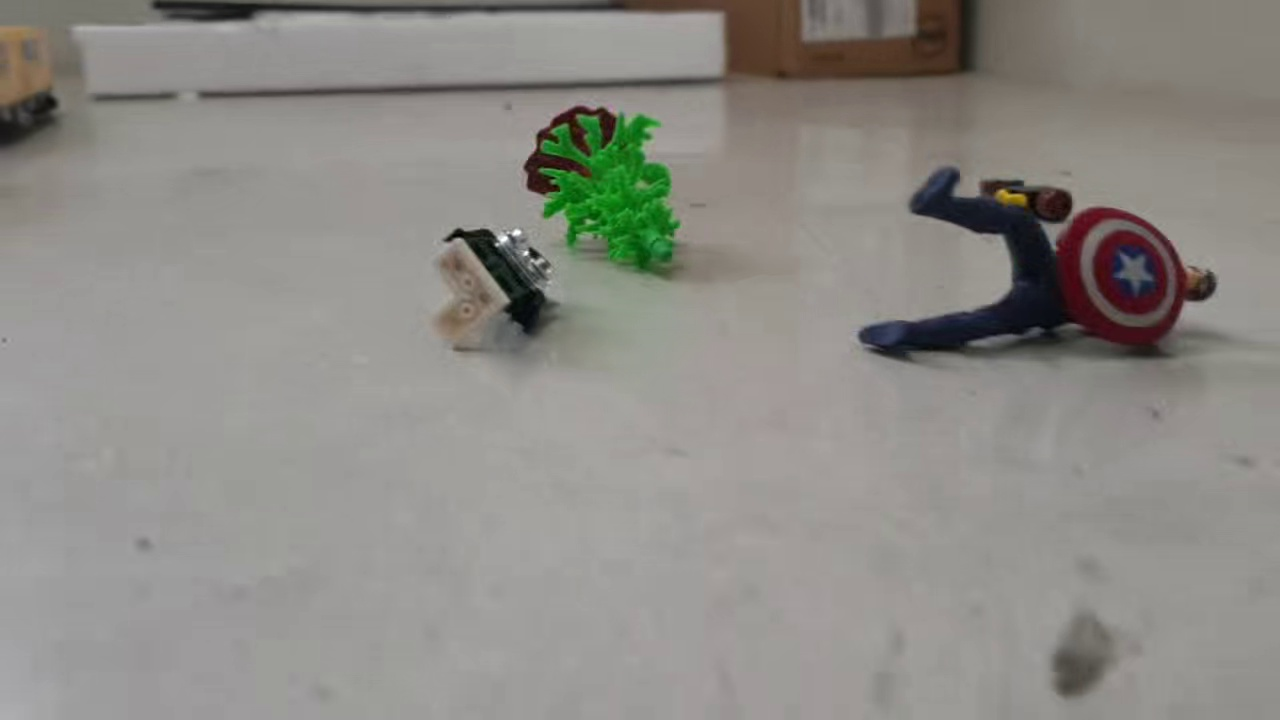people: (852, 165, 1220, 358), (431, 224, 558, 353), (967, 176, 1073, 225)
tree: (518, 103, 686, 280)
